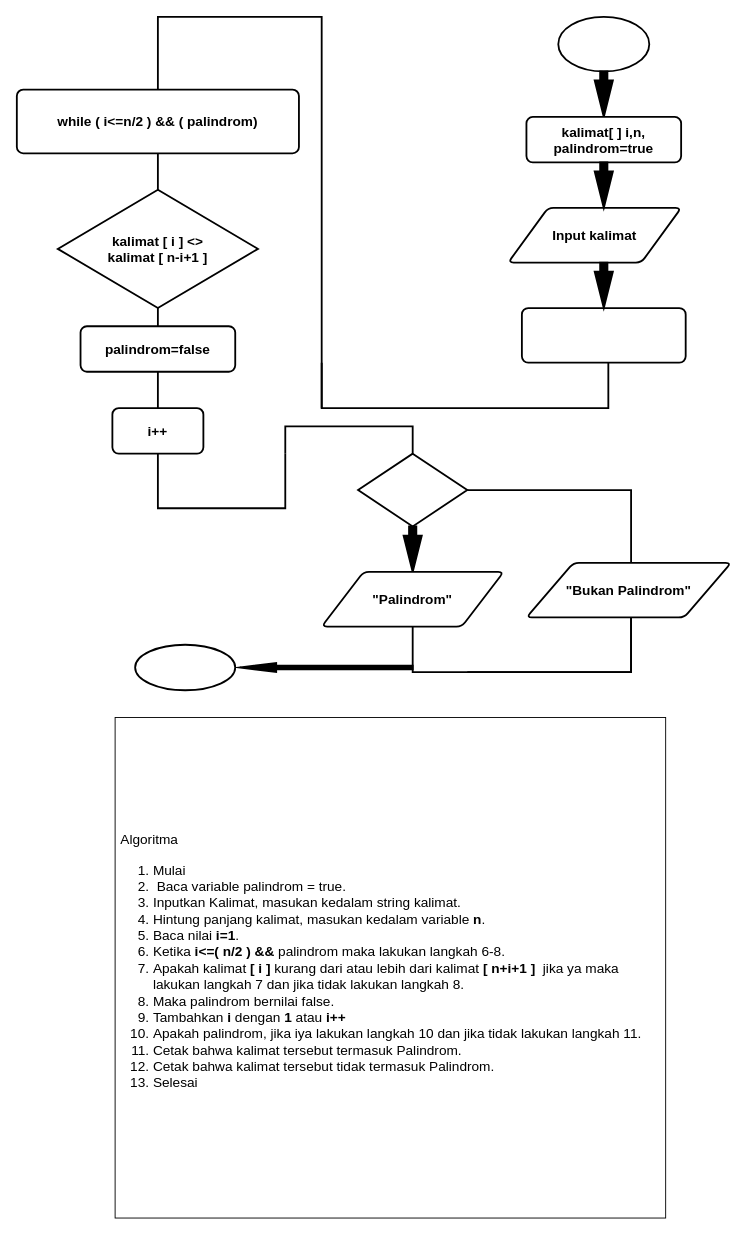
This 747x1234 diagram has some shape labels left out. Each missing label, with the box of its shape:
End: (134, 643, 236, 691)
Mulai: (557, 15, 650, 72)
n=length(kalimat) i=1: (521, 307, 686, 363)
palindrom: (357, 452, 468, 527)
